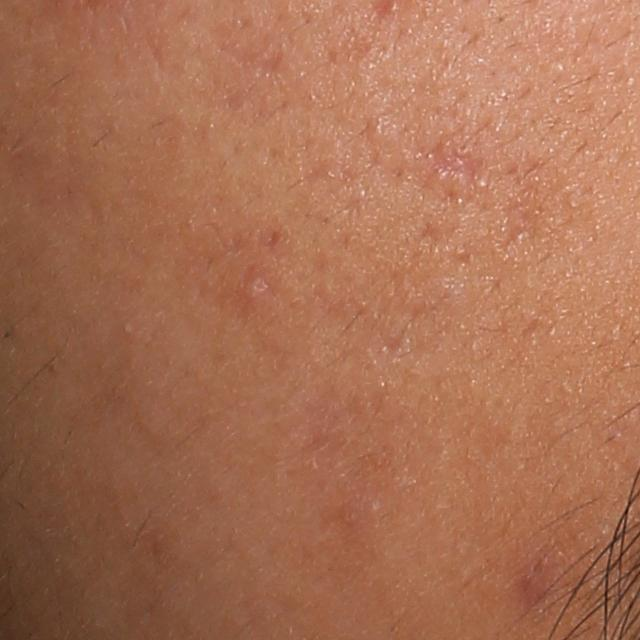atrophic_scar: (484, 161, 600, 269), (411, 139, 488, 191)
papule: (240, 272, 271, 308)
